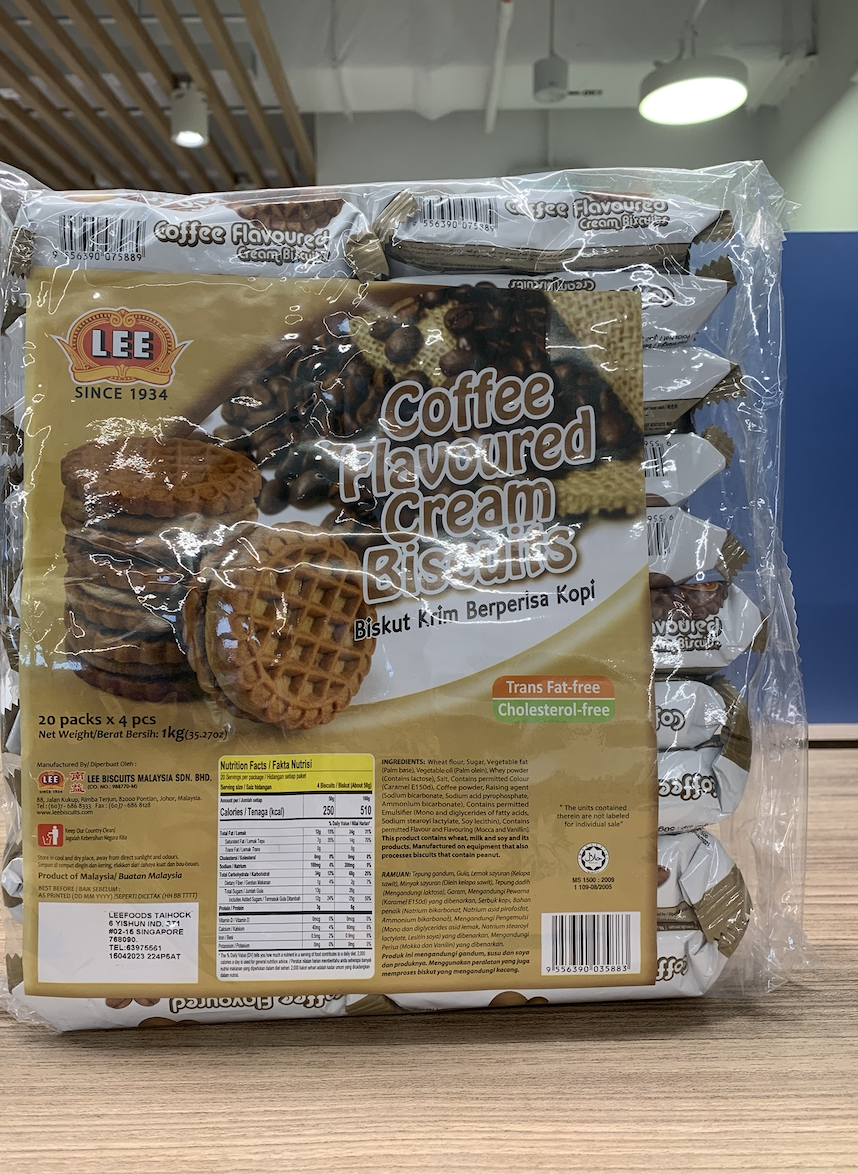cookies_1500g: (28, 195, 746, 1004)
